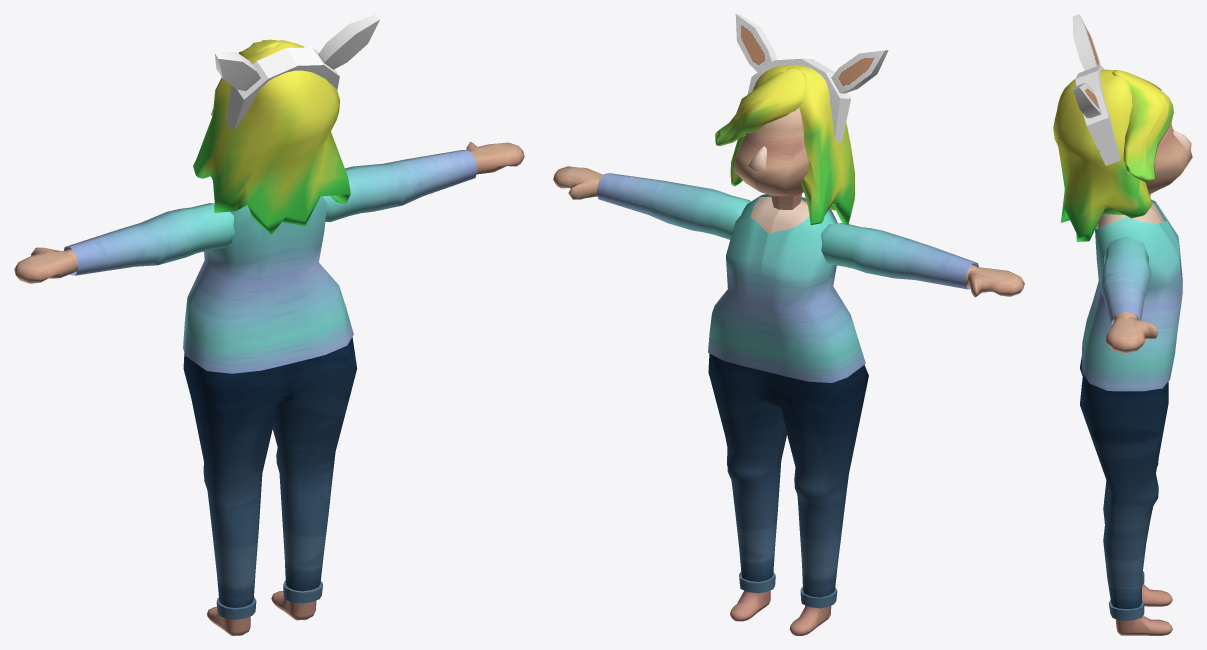
Rendered from Girl_BunnnyEars.fbx.
The picture shows the model from 3 angles, left to right: view 1: azimuth 30°, elevation 25°; view 2: azimuth 150°, elevation 25°; view 3: azimuth 270°, elevation 25°; orthographic projection. The views are drawn at different scales.
Parts seen in each view (by area): view 1: polySurface2; view 2: polySurface2; view 3: polySurface2.
Boxes of the visible parts, x1,y1,x2,y2 form: polySurface2: (14, 14, 524, 635); polySurface2: (553, 14, 1024, 635); polySurface2: (1053, 14, 1192, 635).
Bounding box in the file's own units: 301 × 346 × 76.81.
